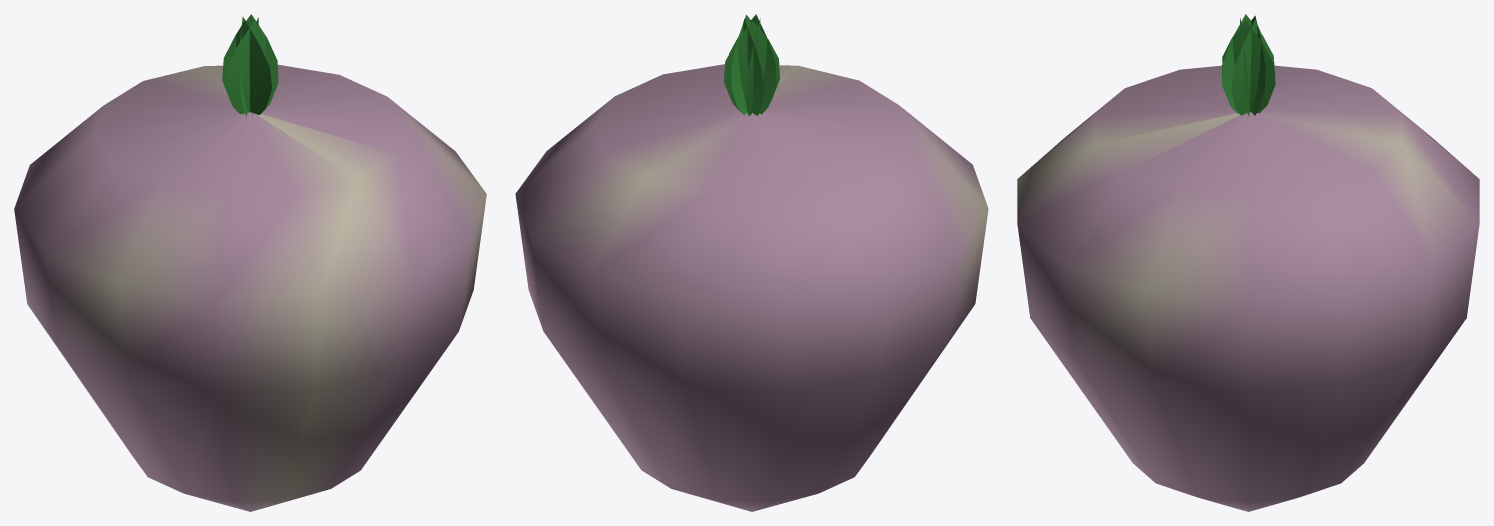
File: fruit-strawberry-chilled.gltf
3 views of the same model, side by side, from view 1: azimuth 30°, elevation 25°; view 2: azimuth 150°, elevation 25°; view 3: azimuth 270°, elevation 25° (orthographic).
Size of the model in its own units: 0.252 by 0.29 by 0.2457.
